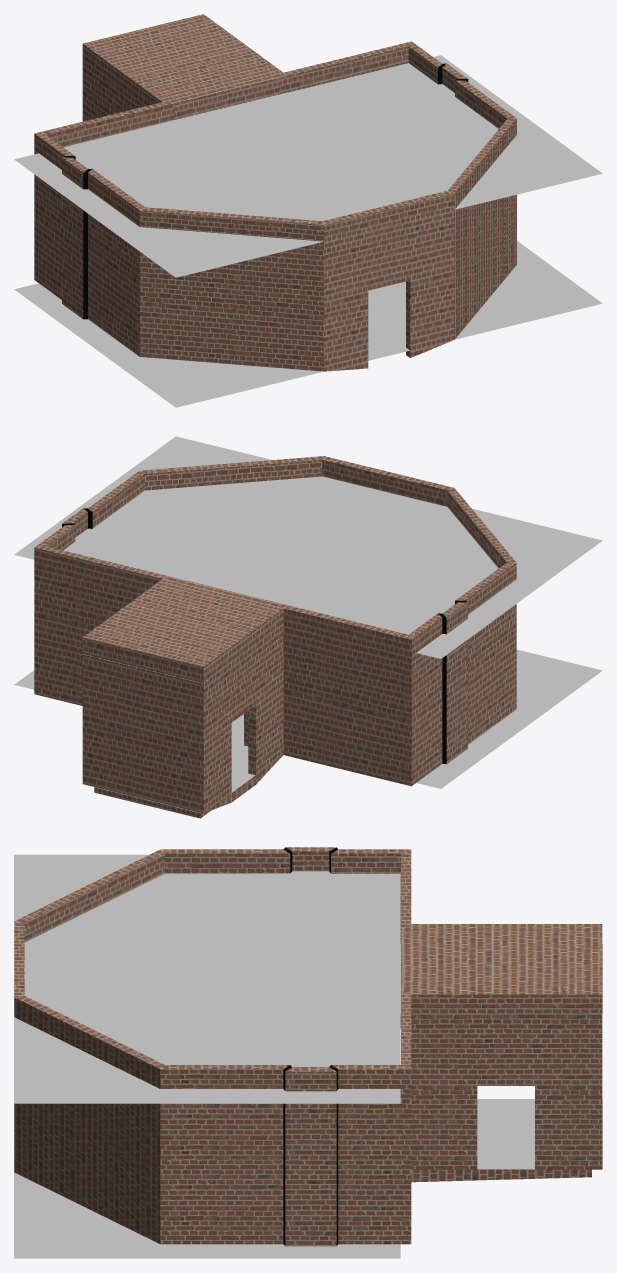
The model's file is HC_ckpt1.gltf.
3 renders of one model, top to bottom at view 1: azimuth 30°, elevation 25°; view 2: azimuth 150°, elevation 25°; view 3: azimuth 270°, elevation 25°, orthographic. The views are drawn at different scales.
Visible parts, largest first — view 1: LCZWallNeoCB2.001, Plane.001, Plane; view 2: LCZWallNeoCB2.001, Plane.001, Plane; view 3: LCZWallNeoCB2.001, Plane.001, Plane.
Part boxes in pixels (x1=…): LCZWallNeoCB2.001: x1=34, y1=14, x2=516, y2=371; Plane.001: x1=14, y1=55, x2=602, y2=277; Plane: x1=14, y1=241, x2=602, y2=407; LCZWallNeoCB2.001: x1=34, y1=456, x2=516, y2=818; Plane.001: x1=14, y1=436, x2=602, y2=683; Plane: x1=14, y1=649, x2=602, y2=813; LCZWallNeoCB2.001: x1=14, y1=847, x2=602, y2=1246; Plane.001: x1=14, y1=854, x2=602, y2=1103; Plane: x1=14, y1=1099, x2=602, y2=1258.
Size of the model in its own units: 20.48 by 7.37 by 20.48.
